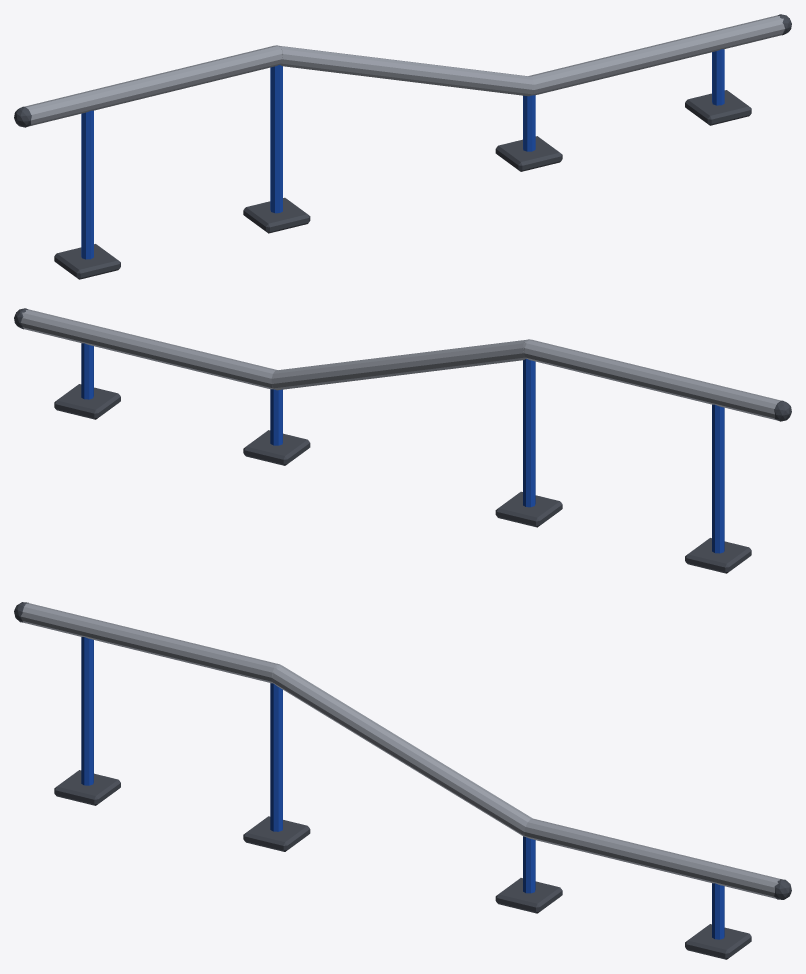
Rendered from rail_kink.obj.
3 renders of one model, top to bottom at view 1: azimuth 30°, elevation 25°; view 2: azimuth 150°, elevation 25°; view 3: azimuth 330°, elevation 25°, orthographic.
Parts seen in each view (by area): view 1: rail_kink; view 2: rail_kink; view 3: rail_kink.
Part boxes in pixels (<box>): rail_kink: <box>14,14,791,279</box>; rail_kink: <box>14,308,791,573</box>; rail_kink: <box>14,602,791,959</box>.
Size of the model in its own units: 24.56 by 5.29 by 1.4.
1 material, 1 textured.
